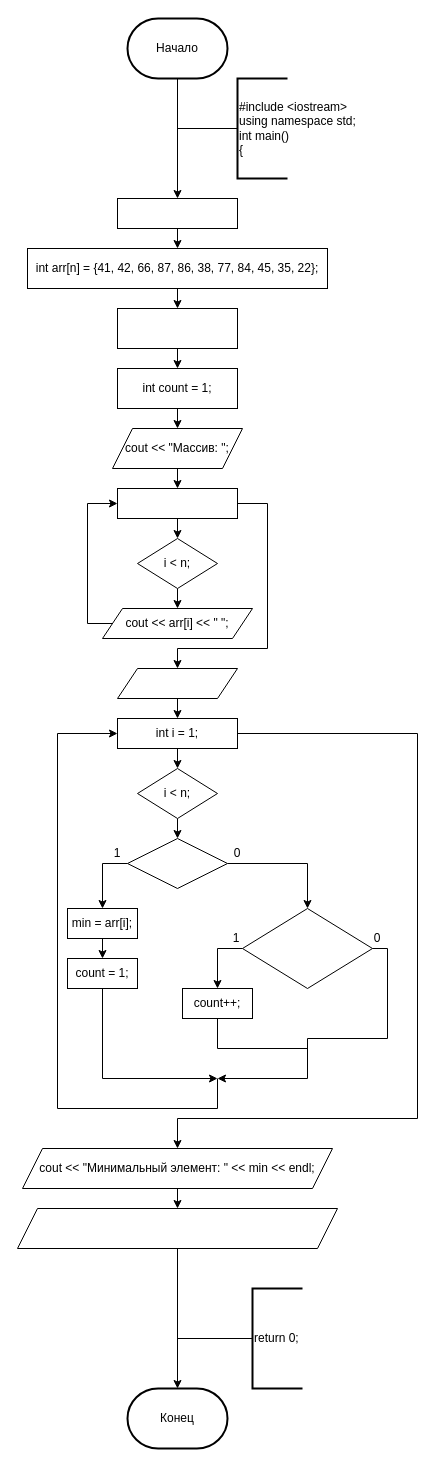
This 443x1466 diagram has some shape labels left out. The box of each missing label's shape, as (x1, y1, x2, y2) in pixels:
const int n = 11;: (116, 198, 238, 228)
cout << "Встречается " << count << " раз(а)" << endl;: (16, 1208, 338, 1248)
cout << endl;: (116, 668, 238, 698)
else if (arr[i] == min): (242, 908, 372, 988)
if (arr[i] < min): (126, 838, 228, 888)
int i = 0;: (116, 488, 238, 518)
int min = arr[0];: (116, 308, 238, 348)
